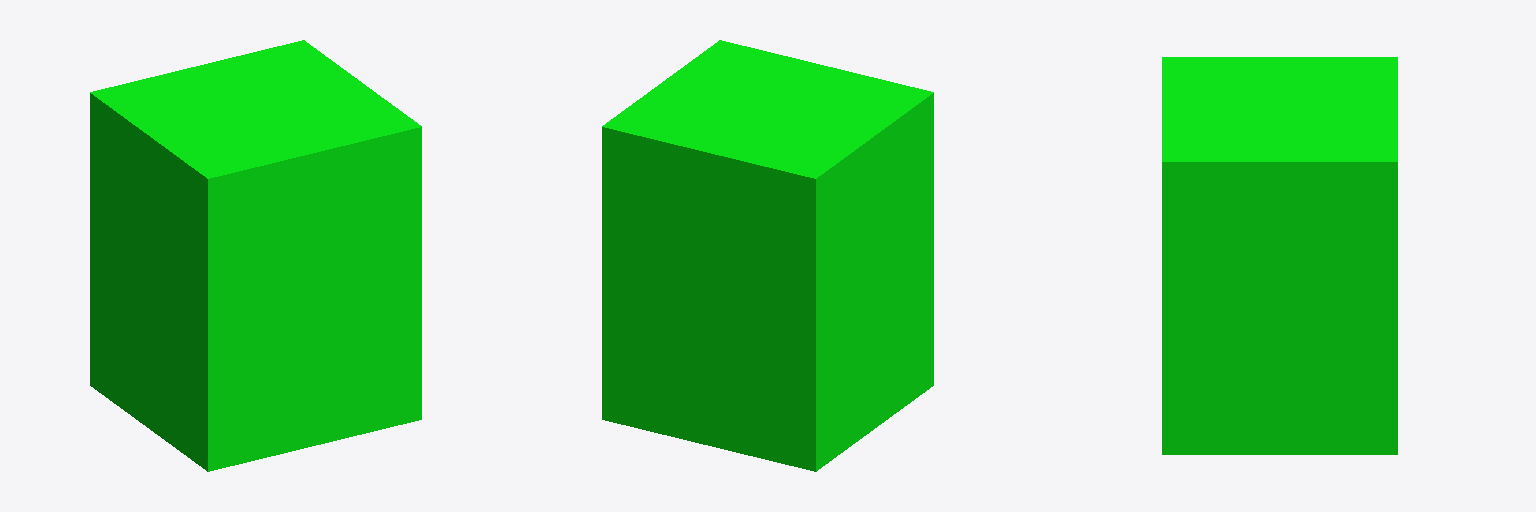
The picture shows the model from 3 angles: view 1: azimuth 30°, elevation 25°; view 2: azimuth 150°, elevation 25°; view 3: azimuth 270°, elevation 25°; orthographic projection.
Parts seen in each view (by area): view 1: Box002; view 2: Box002; view 3: Box002.
Part boxes in pixels (left/top/right/bottom): Box002: left=90, top=40, right=421, bottom=471; Box002: left=602, top=40, right=933, bottom=471; Box002: left=1162, top=57, right=1397, bottom=454.
Size of the model in its own units: 17.03 by 22.23 by 16.29.
1 materials, 1 textured.